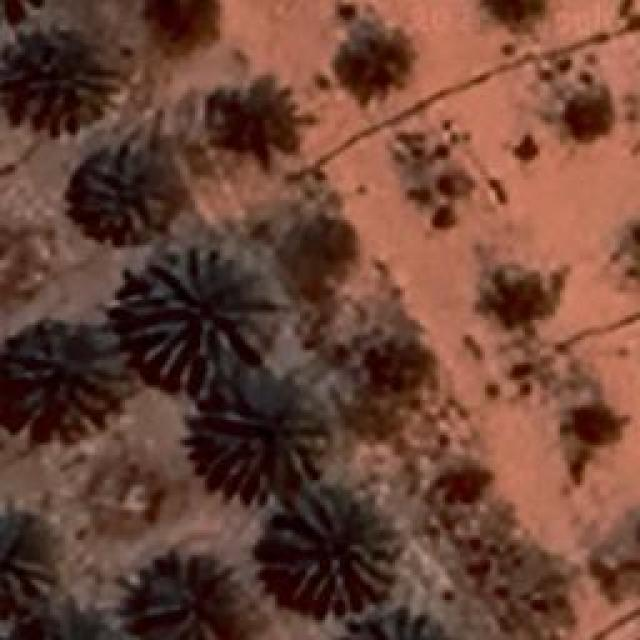PalmTree: (63, 63, 401, 624), (114, 31, 520, 311), (120, 245, 278, 393), (270, 484, 392, 608), (10, 320, 130, 438), (202, 394, 326, 494), (12, 20, 112, 120), (68, 144, 170, 238), (140, 547, 232, 635), (212, 78, 302, 152), (360, 338, 440, 404), (0, 520, 50, 615), (345, 32, 413, 100), (140, 0, 222, 54), (421, 454, 491, 508), (564, 394, 628, 452), (19, 609, 130, 640), (564, 84, 614, 144), (479, 0, 556, 34), (22, 620, 126, 640), (0, 0, 52, 22)
